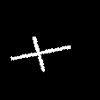single_crochet: (11, 37, 70, 71)
